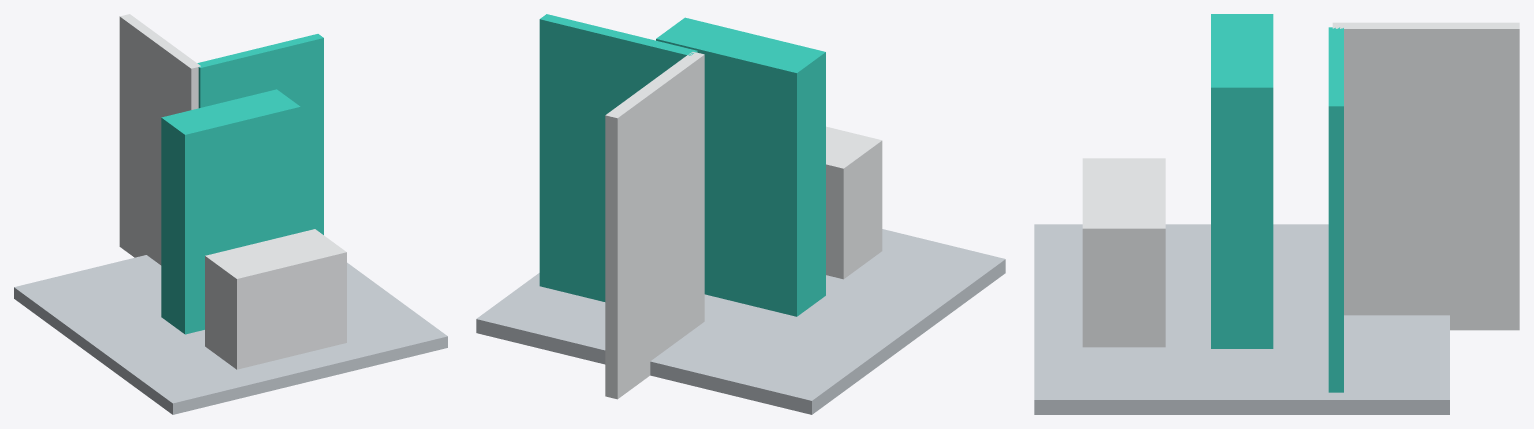
3 renders of one model, left to right at view 1: azimuth 30°, elevation 25°; view 2: azimuth 150°, elevation 25°; view 3: azimuth 270°, elevation 25°, orthographic. The views are drawn at different scales.
Visible parts, largest first — view 1: Exhibition Booth Concept; view 2: Exhibition Booth Concept; view 3: Exhibition Booth Concept.
Part boxes in pixels (<box>): Exhibition Booth Concept: <box>14,14,447,414</box>; Exhibition Booth Concept: <box>476,14,1005,414</box>; Exhibition Booth Concept: <box>1034,14,1519,414</box>.
Bounding box in the file's own units: 3 × 2.4 × 3.51.
